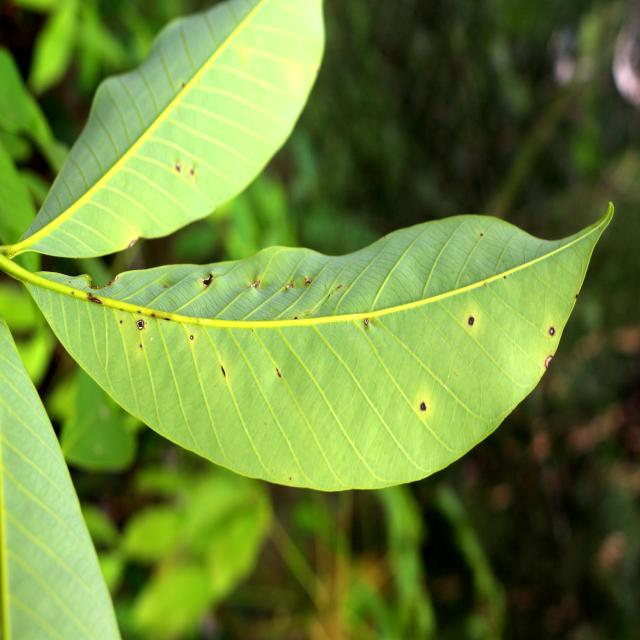Colletotrichum: (137, 320, 144, 330), (420, 402, 426, 410), (468, 317, 474, 325), (549, 327, 554, 336), (190, 335, 193, 340)
